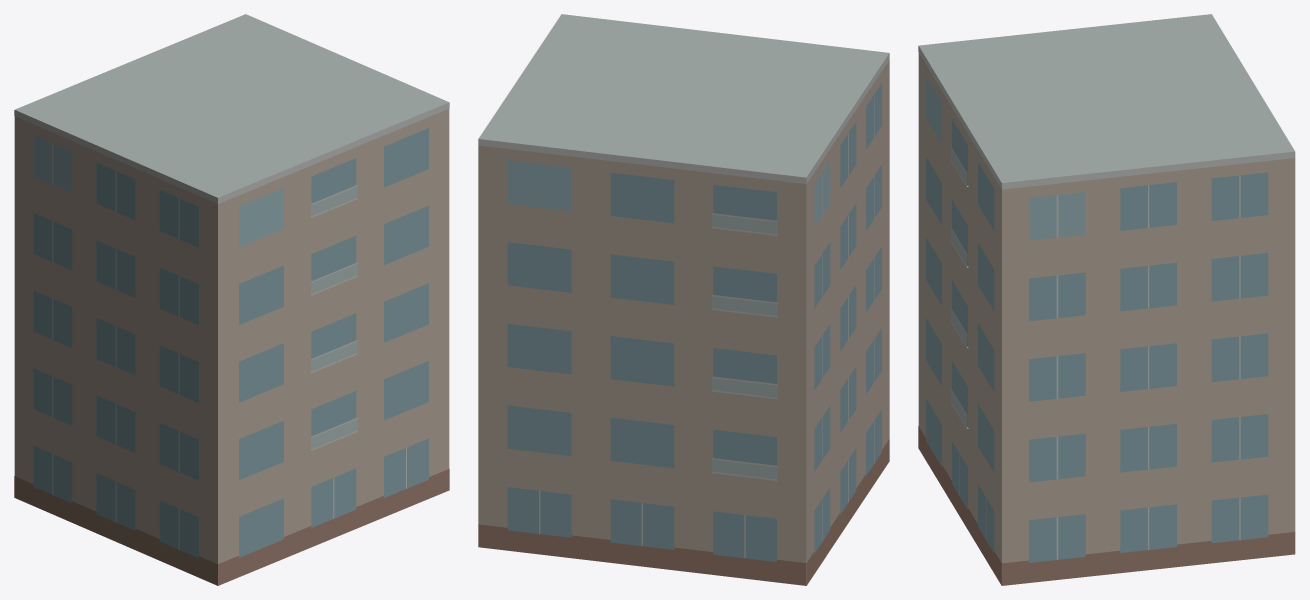
File: survey-upis-32962630.glb
3 renders of one model, left to right at view 1: azimuth 30°, elevation 25°; view 2: azimuth 150°, elevation 25°; view 3: azimuth 270°, elevation 25°, orthographic. The views are drawn at different scales.
Parts seen in each view (by area): view 1: survey-upis-32962630.tmp; view 2: survey-upis-32962630.tmp; view 3: survey-upis-32962630.tmp.
Part boxes in pixels (x1=…): survey-upis-32962630.tmp: x1=14, y1=14, x2=449, y2=585; survey-upis-32962630.tmp: x1=478, y1=14, x2=889, y2=585; survey-upis-32962630.tmp: x1=918, y1=14, x2=1295, y2=585.
Size of the model in its own units: 13.74 by 15.25 by 12.94.
